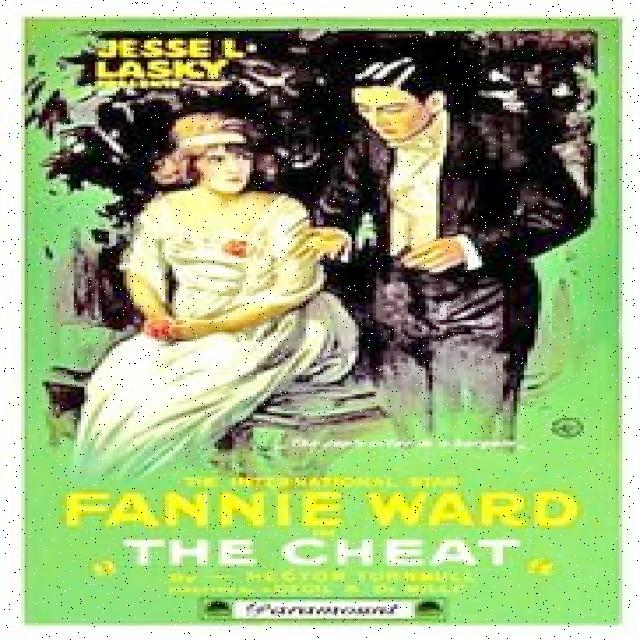movie-judul: (115, 534, 525, 570)
picture: (29, 57, 620, 472)
